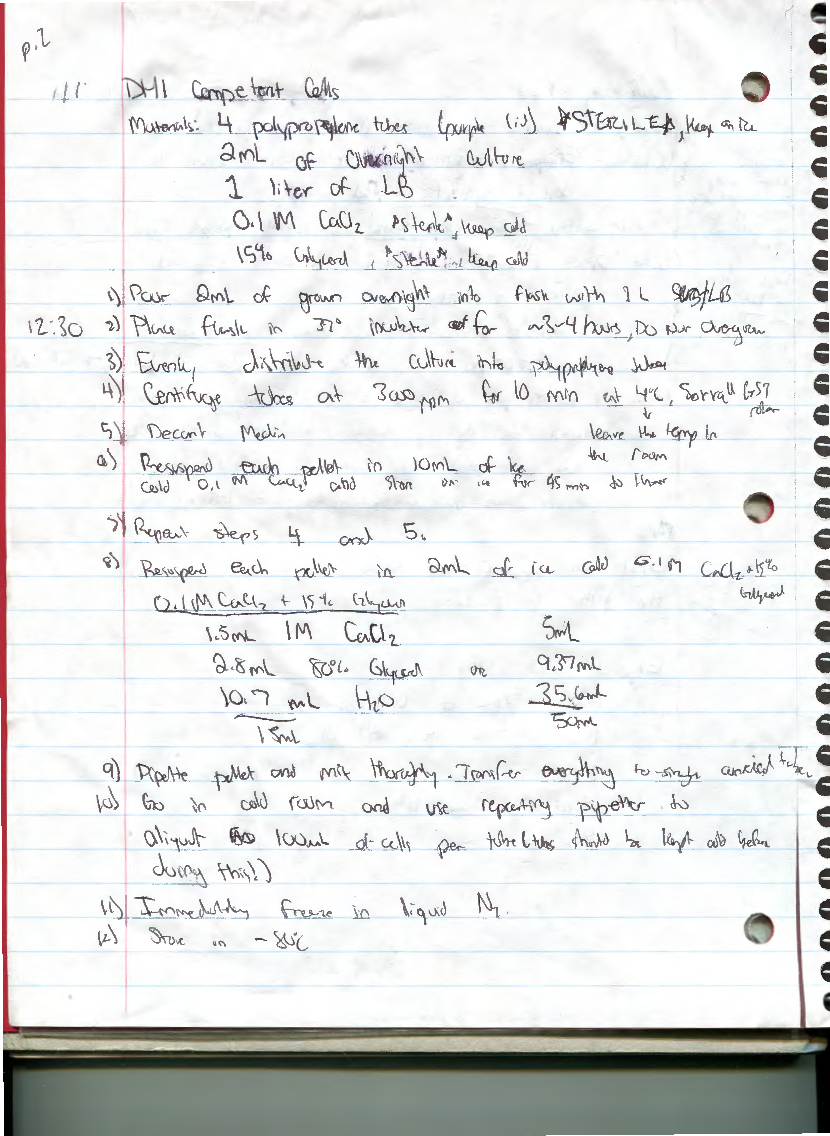notebook: (4, 1, 830, 1052)
